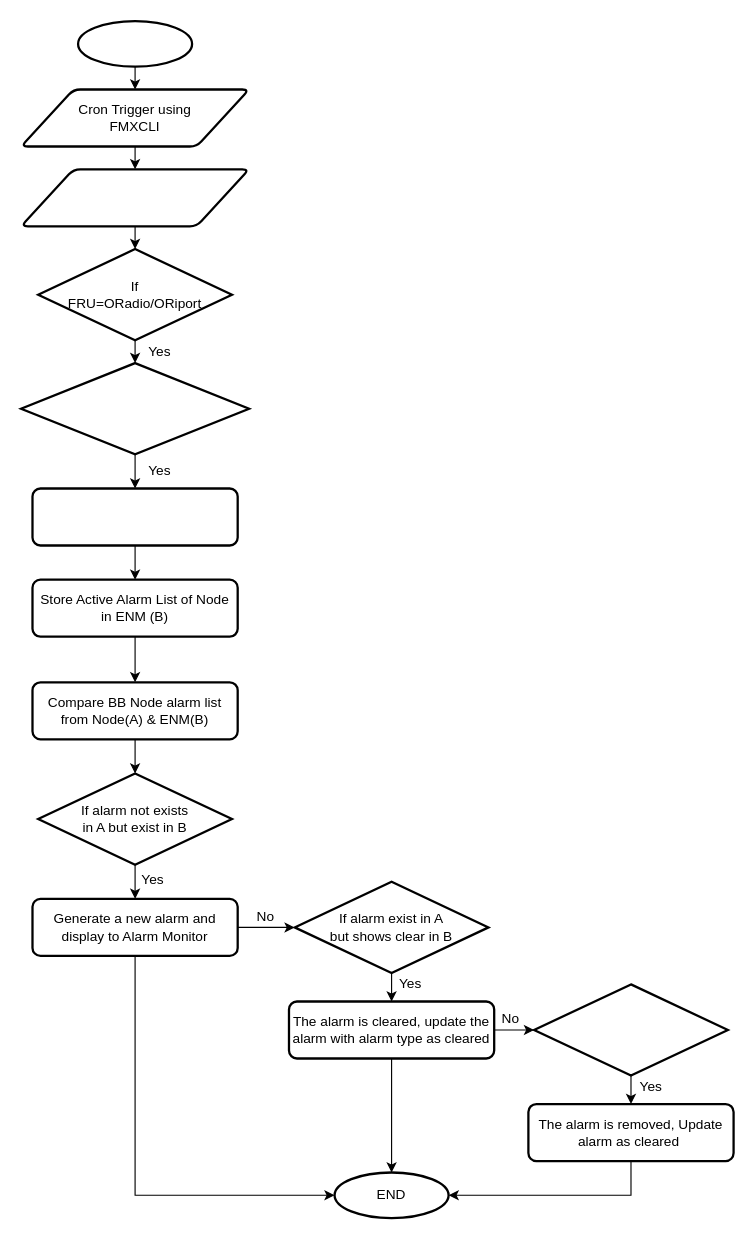
Image size: 754x1238. Some labels were removed from this diagram. The box of each missing label's shape, as (x1, y1, x2, y2) in pixels:
Get ORadio FRU by ENMCLI/Script: (19, 168, 250, 227)
If alarm exist in A but not exist in B: (532, 983, 728, 1076)
If BB Node Supervision Status = Active: (19, 361, 250, 455)
Run a script to get BB Node Active alarm list [SSH & ora/orax execution] (A): (31, 487, 238, 546)
START: (76, 19, 193, 67)
